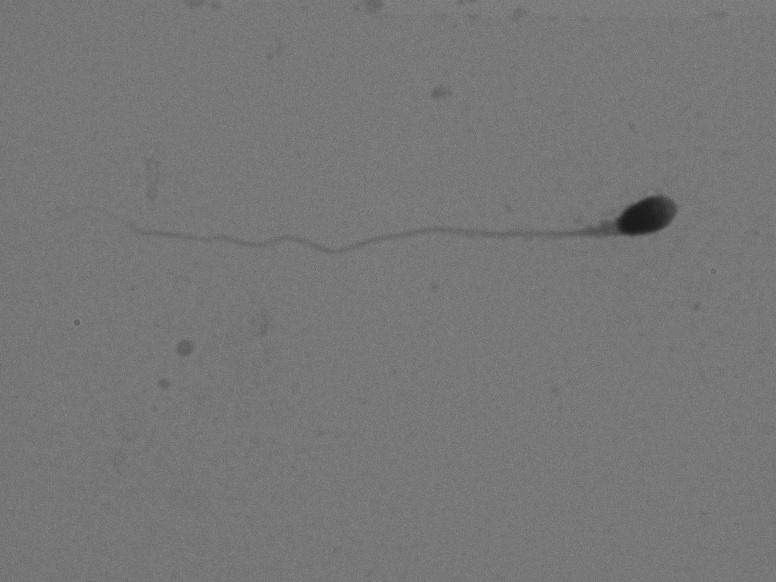Normal: (53, 175, 690, 306)
